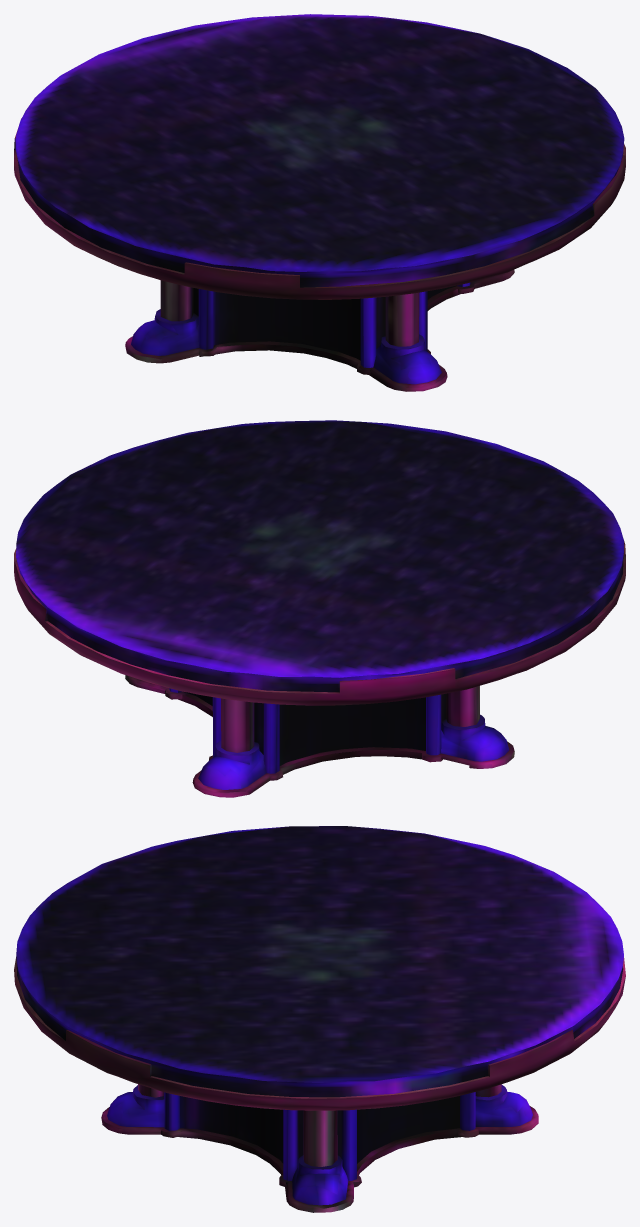
Rendered from table.glb.
3 renders of one model, top to bottom at view 1: azimuth 30°, elevation 25°; view 2: azimuth 150°, elevation 25°; view 3: azimuth 270°, elevation 25°, orthographic.
Visible parts, largest first — view 1: table.002; view 2: table.002; view 3: table.002.
Part boxes in pixels (bbox=[...]): table.002: bbox=[14, 14, 625, 391]; table.002: bbox=[14, 420, 625, 797]; table.002: bbox=[14, 826, 625, 1212].
Bounding box in the file's own units: 2.52 × 0.7818 × 2.52.
Materials: 1 (1 with a texture image).
